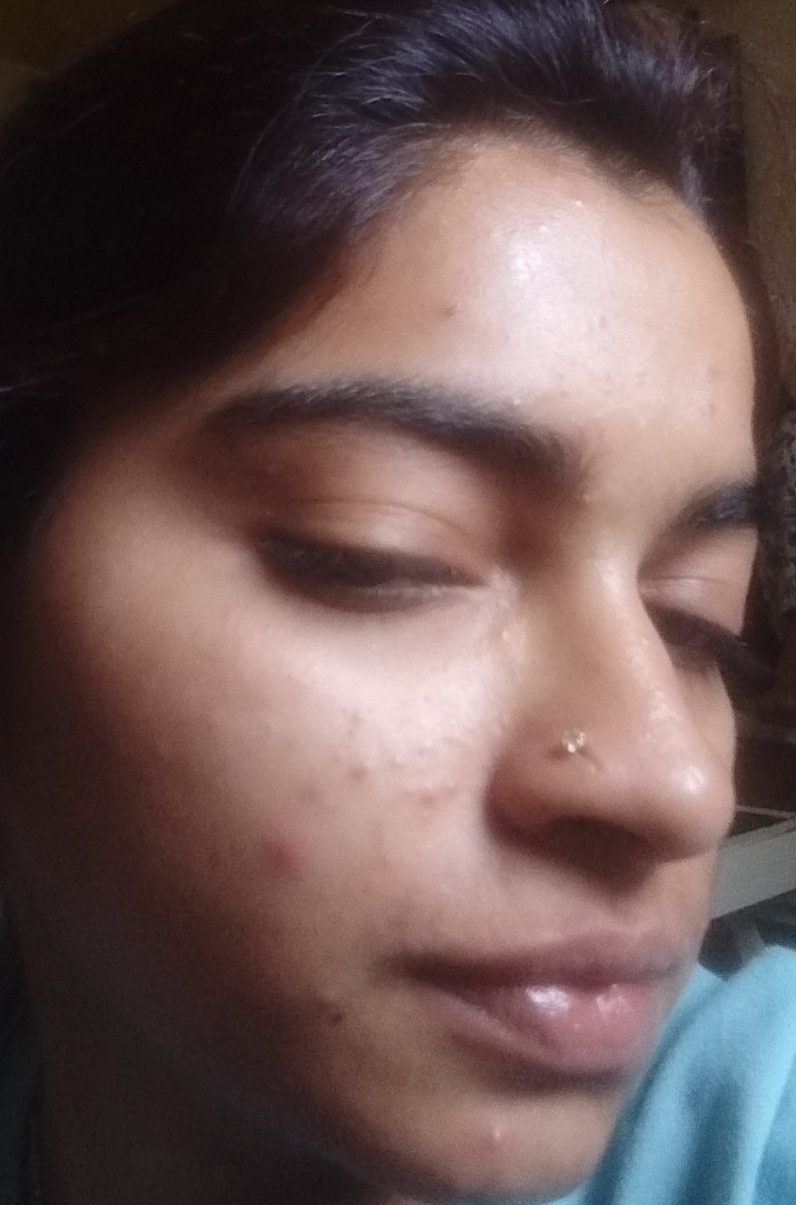papule: (408, 772, 468, 836), (277, 808, 330, 876), (322, 742, 392, 790), (547, 180, 595, 247), (424, 285, 478, 343), (317, 969, 348, 1029)
pustule: (478, 1106, 527, 1164)
